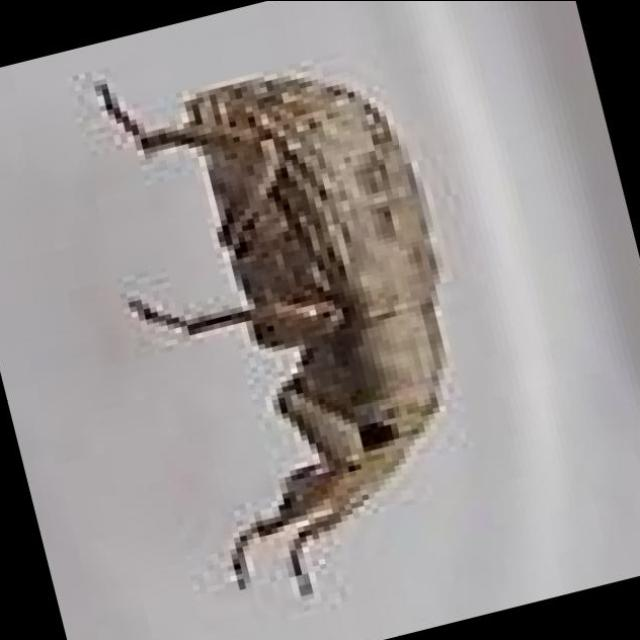ricebug: (96, 74, 448, 587)
